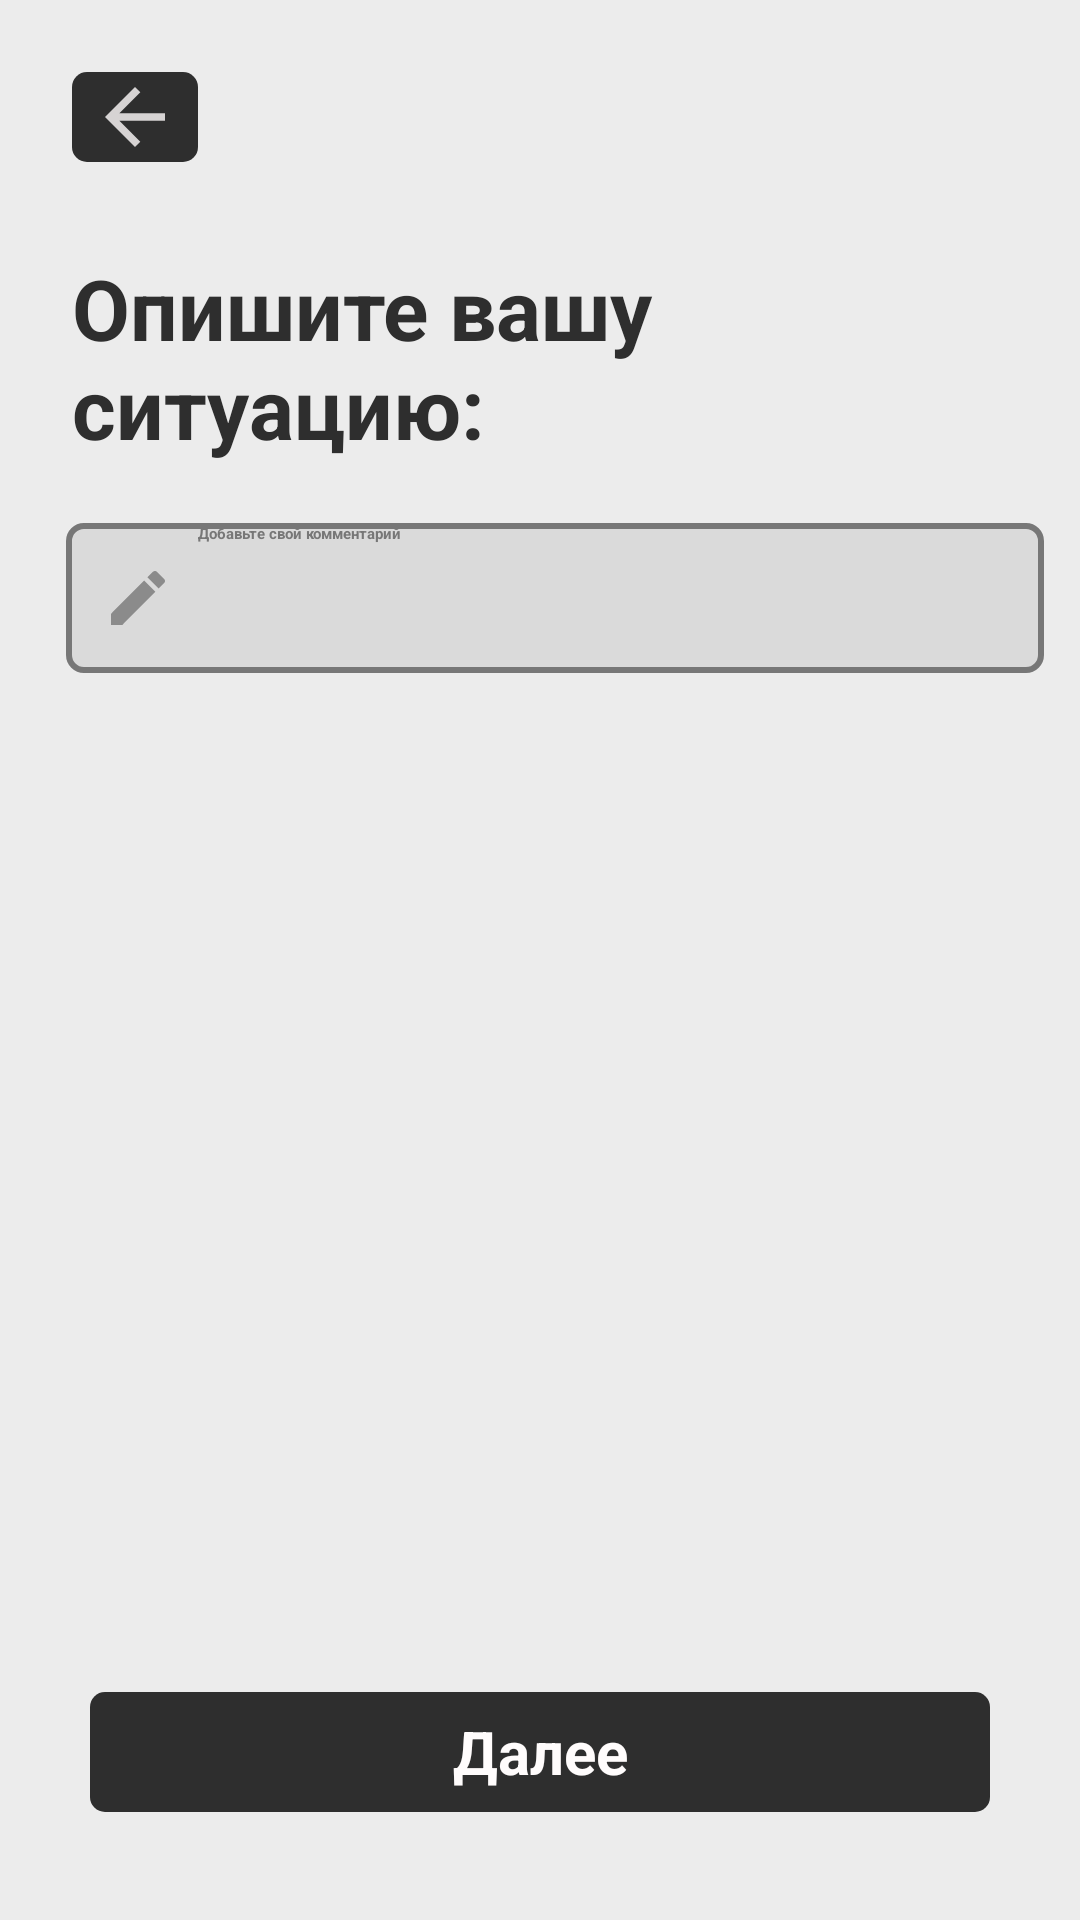

Icons on this 1080w x 1920h Android screen, each with its box as (x1, y1, x2, y2):
back: (72, 72, 198, 162)
